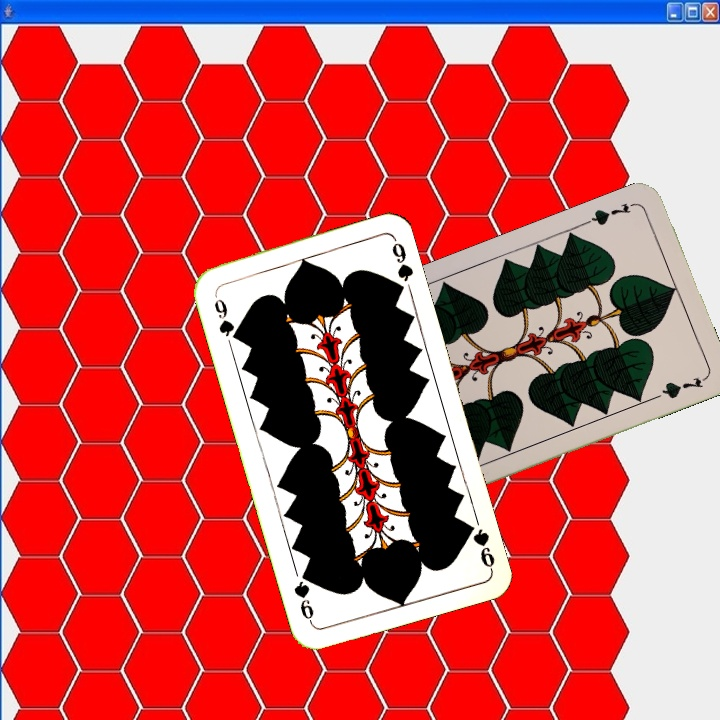G7: (582, 198, 639, 228)
G9: (460, 518, 497, 573), (210, 294, 242, 344)
